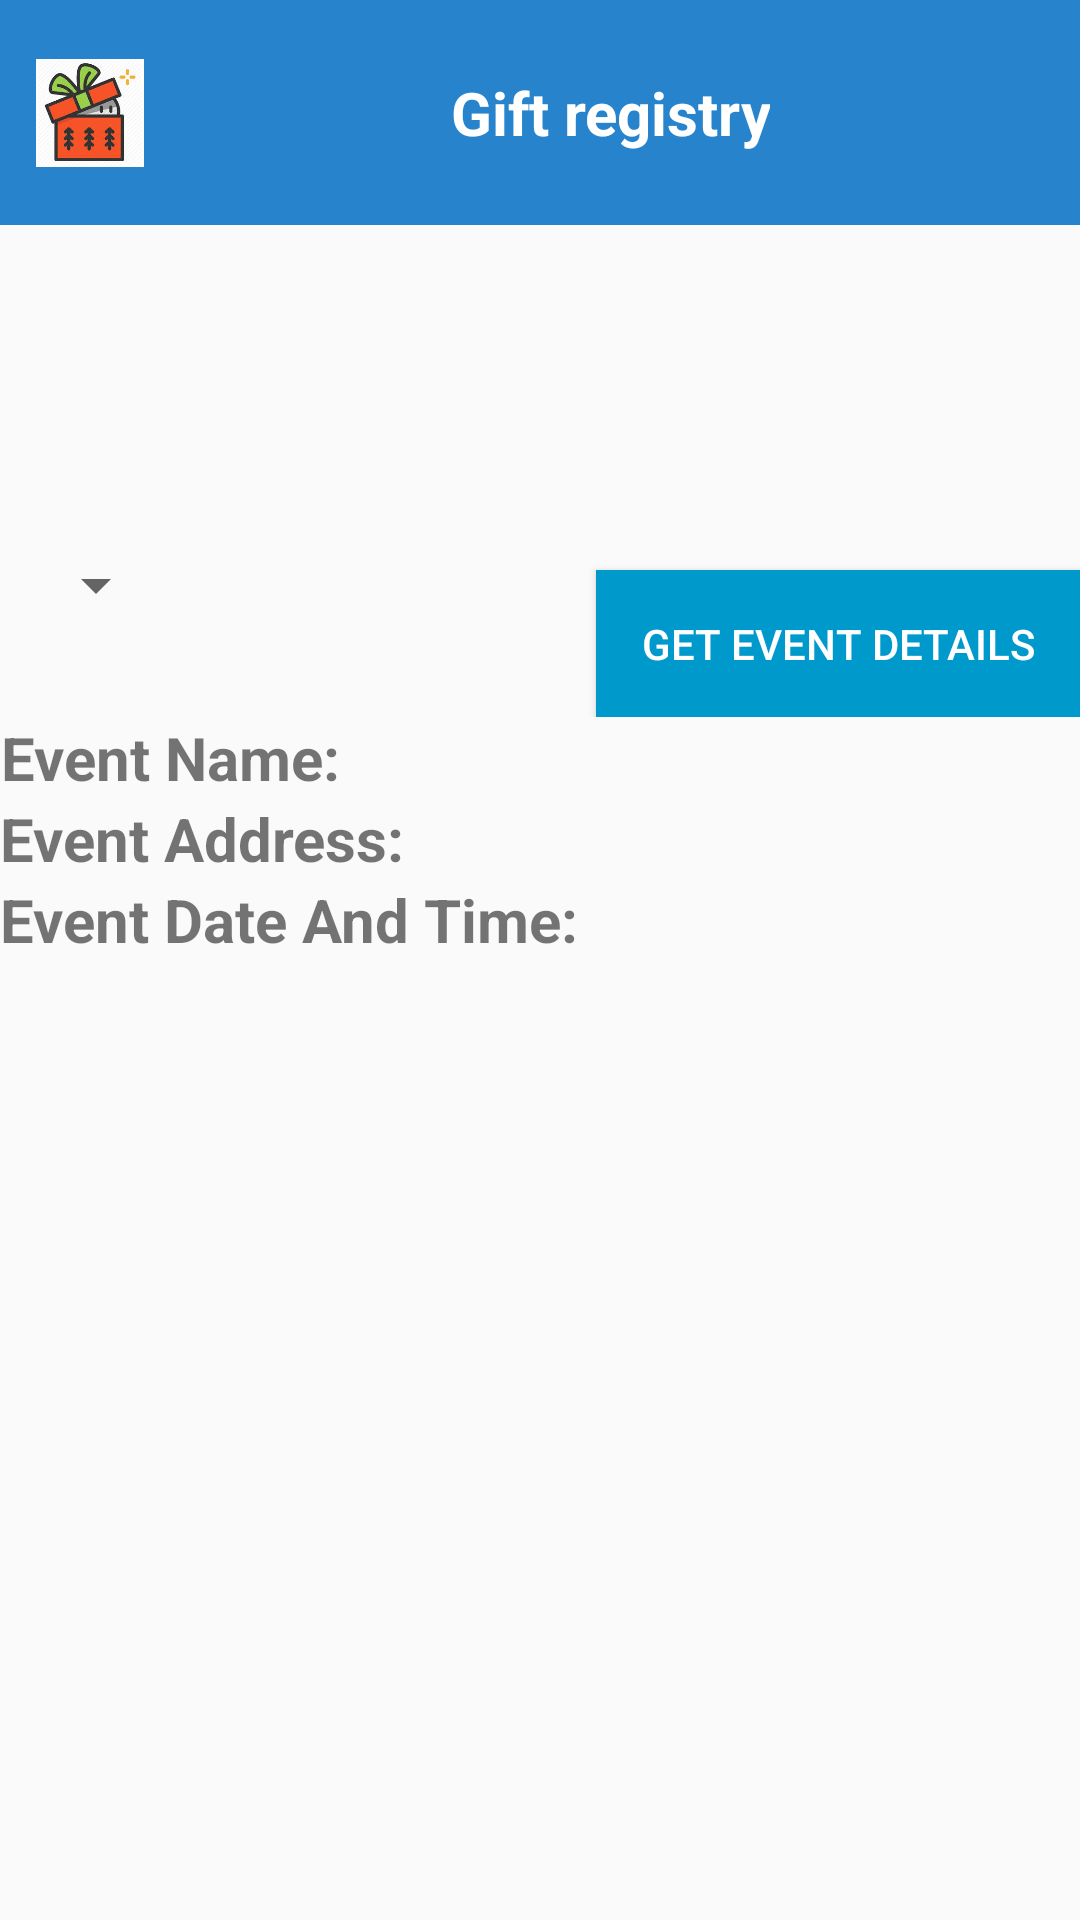

Where icons sit on this 1080px x 1920px app screen, as (x1, y1, x2, y2):
gift: (36, 59, 144, 167)
